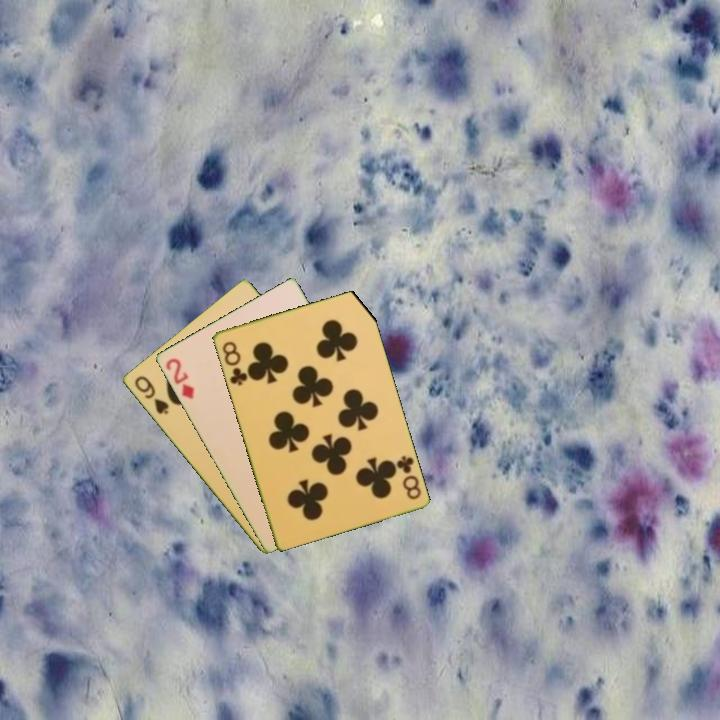2d: (162, 354, 197, 402)
8c: (218, 338, 250, 389), (392, 452, 424, 502)
9s: (130, 372, 172, 417)
